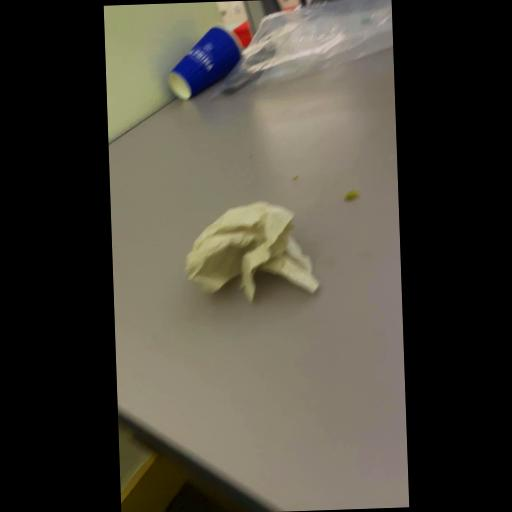napkin: (182, 198, 318, 304)
